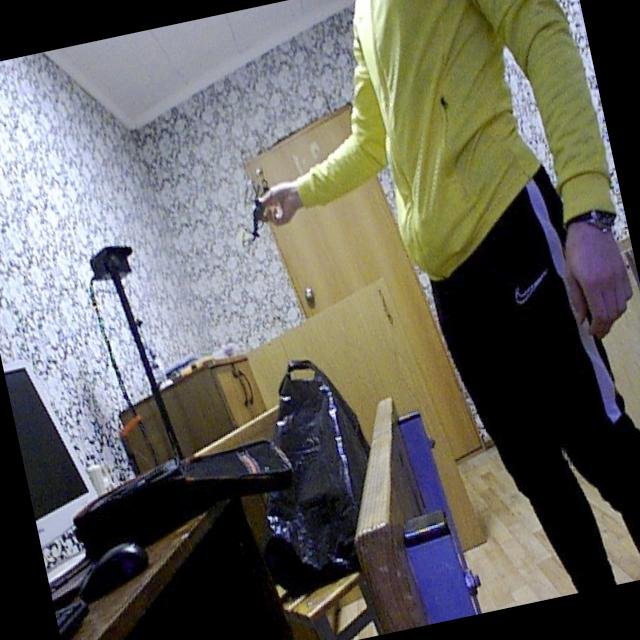drone: (222, 168, 292, 258)
